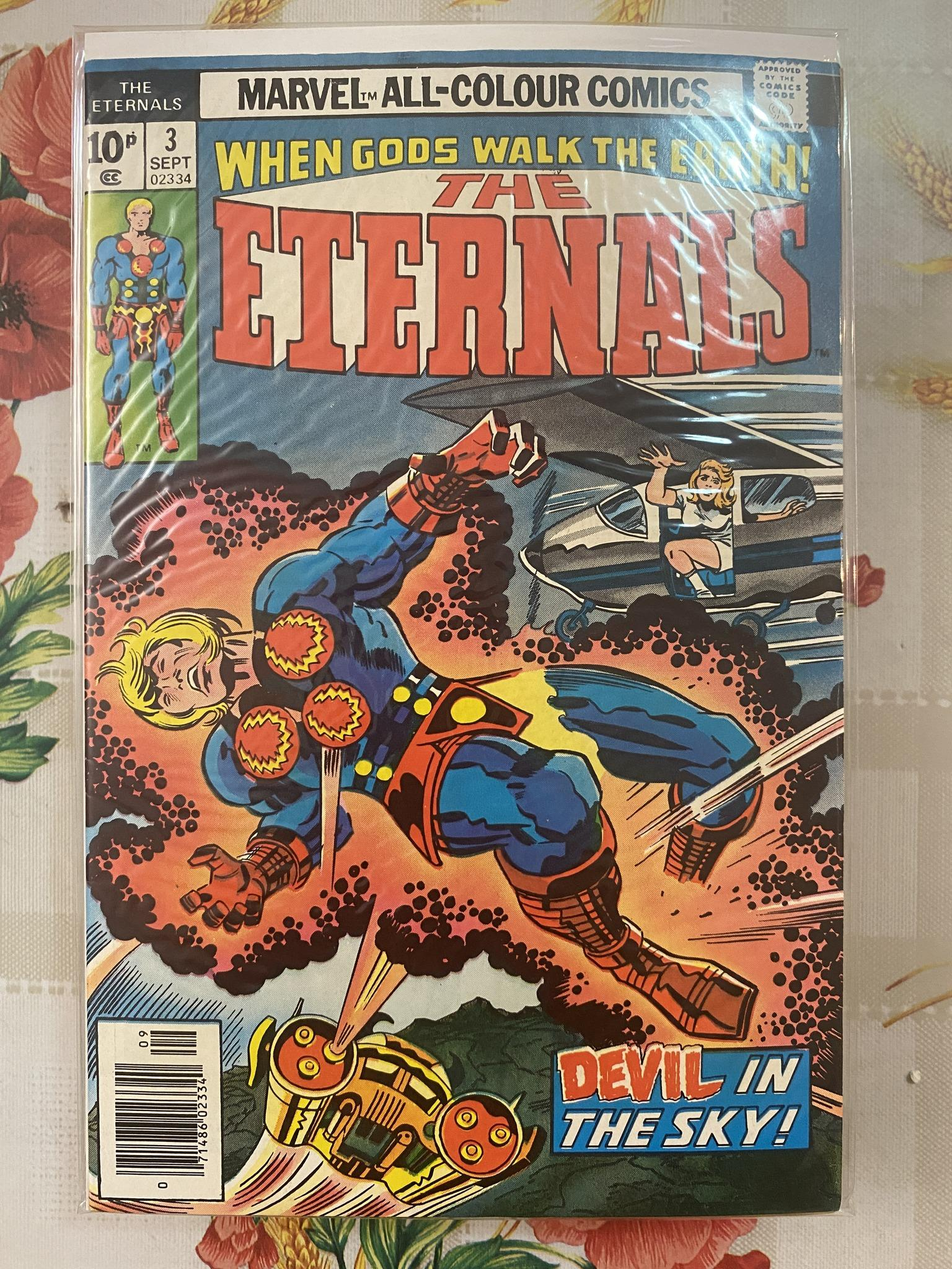comic: (74, 25, 844, 1217)
